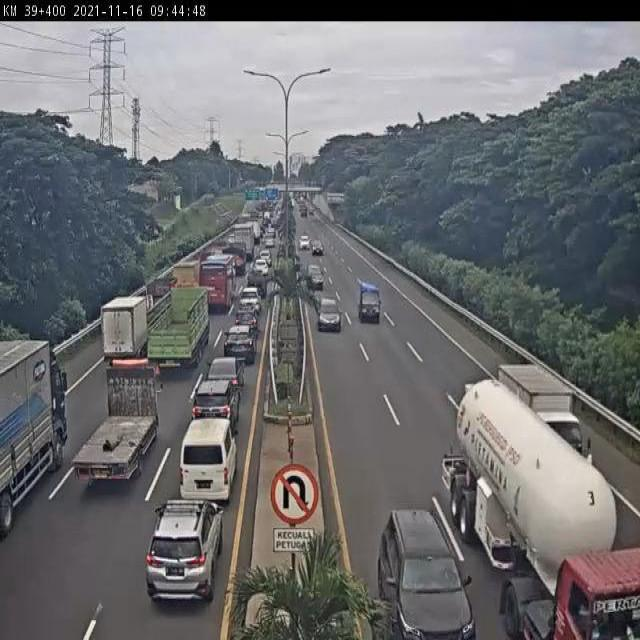big bus: (194, 253, 234, 316)
car: (375, 505, 474, 640), (146, 500, 224, 607), (177, 422, 237, 507), (188, 382, 236, 447), (205, 355, 246, 396), (223, 327, 255, 365), (232, 308, 259, 335), (236, 288, 261, 316), (320, 297, 340, 332)
small truck: (358, 283, 385, 325)
truck-l-: (0, 337, 66, 547), (147, 288, 206, 373)
truck-m-: (72, 356, 162, 483), (500, 365, 595, 476), (99, 298, 152, 366), (171, 253, 204, 300), (144, 278, 182, 318)
truck-xl-: (454, 377, 640, 640)
